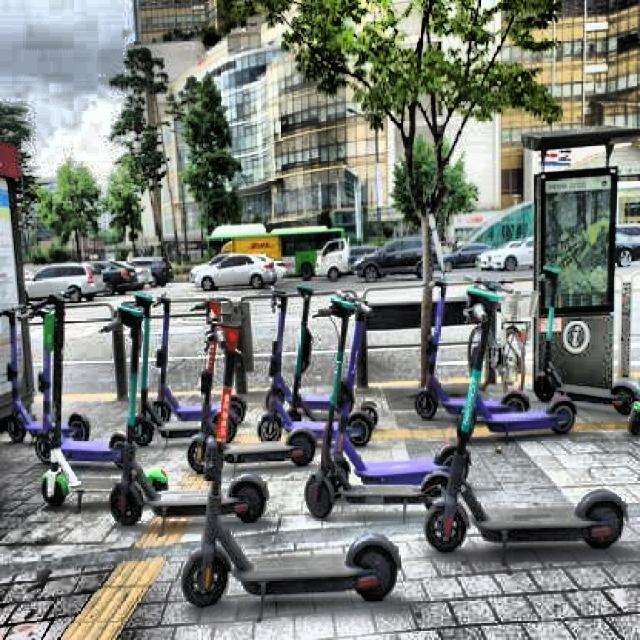bike: (419, 275, 629, 554), (462, 278, 535, 399)
car: (354, 235, 445, 281), (189, 253, 281, 291), (478, 236, 534, 272), (129, 256, 173, 288), (441, 242, 493, 269), (615, 224, 640, 266)
